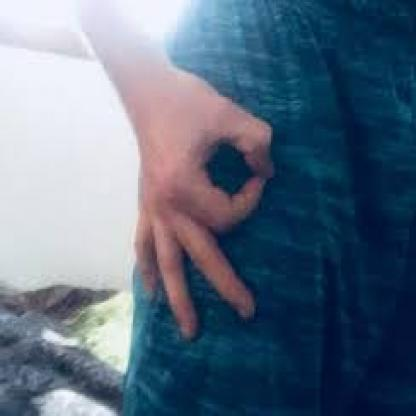ok: (132, 90, 276, 341)
